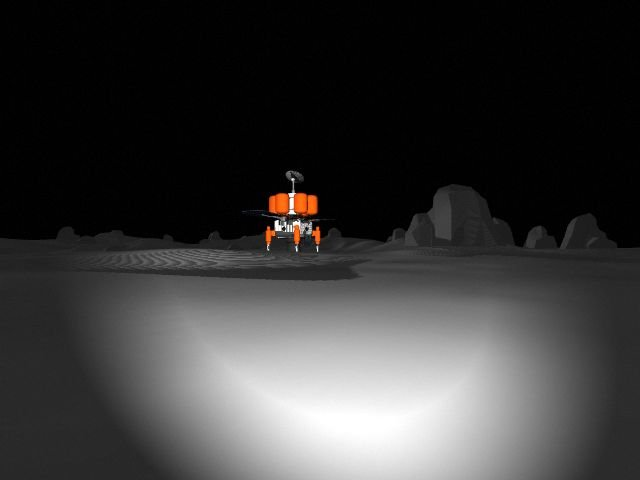homebase: (241, 167, 331, 255)
